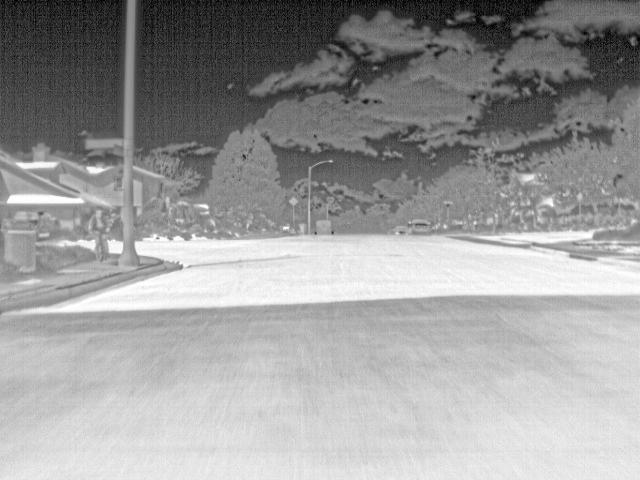car: (2, 208, 60, 234), (316, 220, 336, 234), (395, 222, 412, 236), (415, 220, 432, 234)
person: (93, 207, 109, 241)
